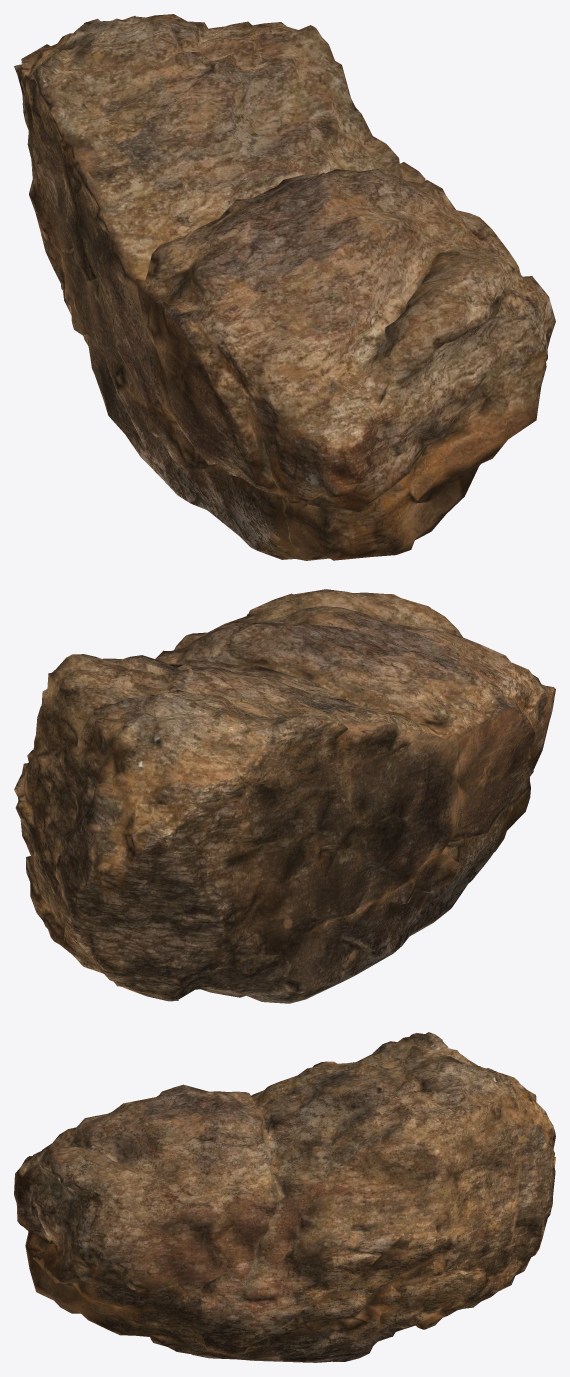
The model's file is namaqualand_boulder_06.glb.
3 renders of one model, top to bottom at view 1: azimuth 30°, elevation 25°; view 2: azimuth 150°, elevation 25°; view 3: azimuth 270°, elevation 25°, orthographic. The views are drawn at different scales.
Visible parts, largest first — view 1: namaqualand_boulder_06; view 2: namaqualand_boulder_06; view 3: namaqualand_boulder_06.
Boxes of the visible parts, x1,y1,x2,y2 form: namaqualand_boulder_06: (14,14,555,560); namaqualand_boulder_06: (14,589,555,1003); namaqualand_boulder_06: (14,1032,555,1362).
Size of the model in its own units: 0.6736 by 0.6483 by 1.21.
1 material, 1 textured.
